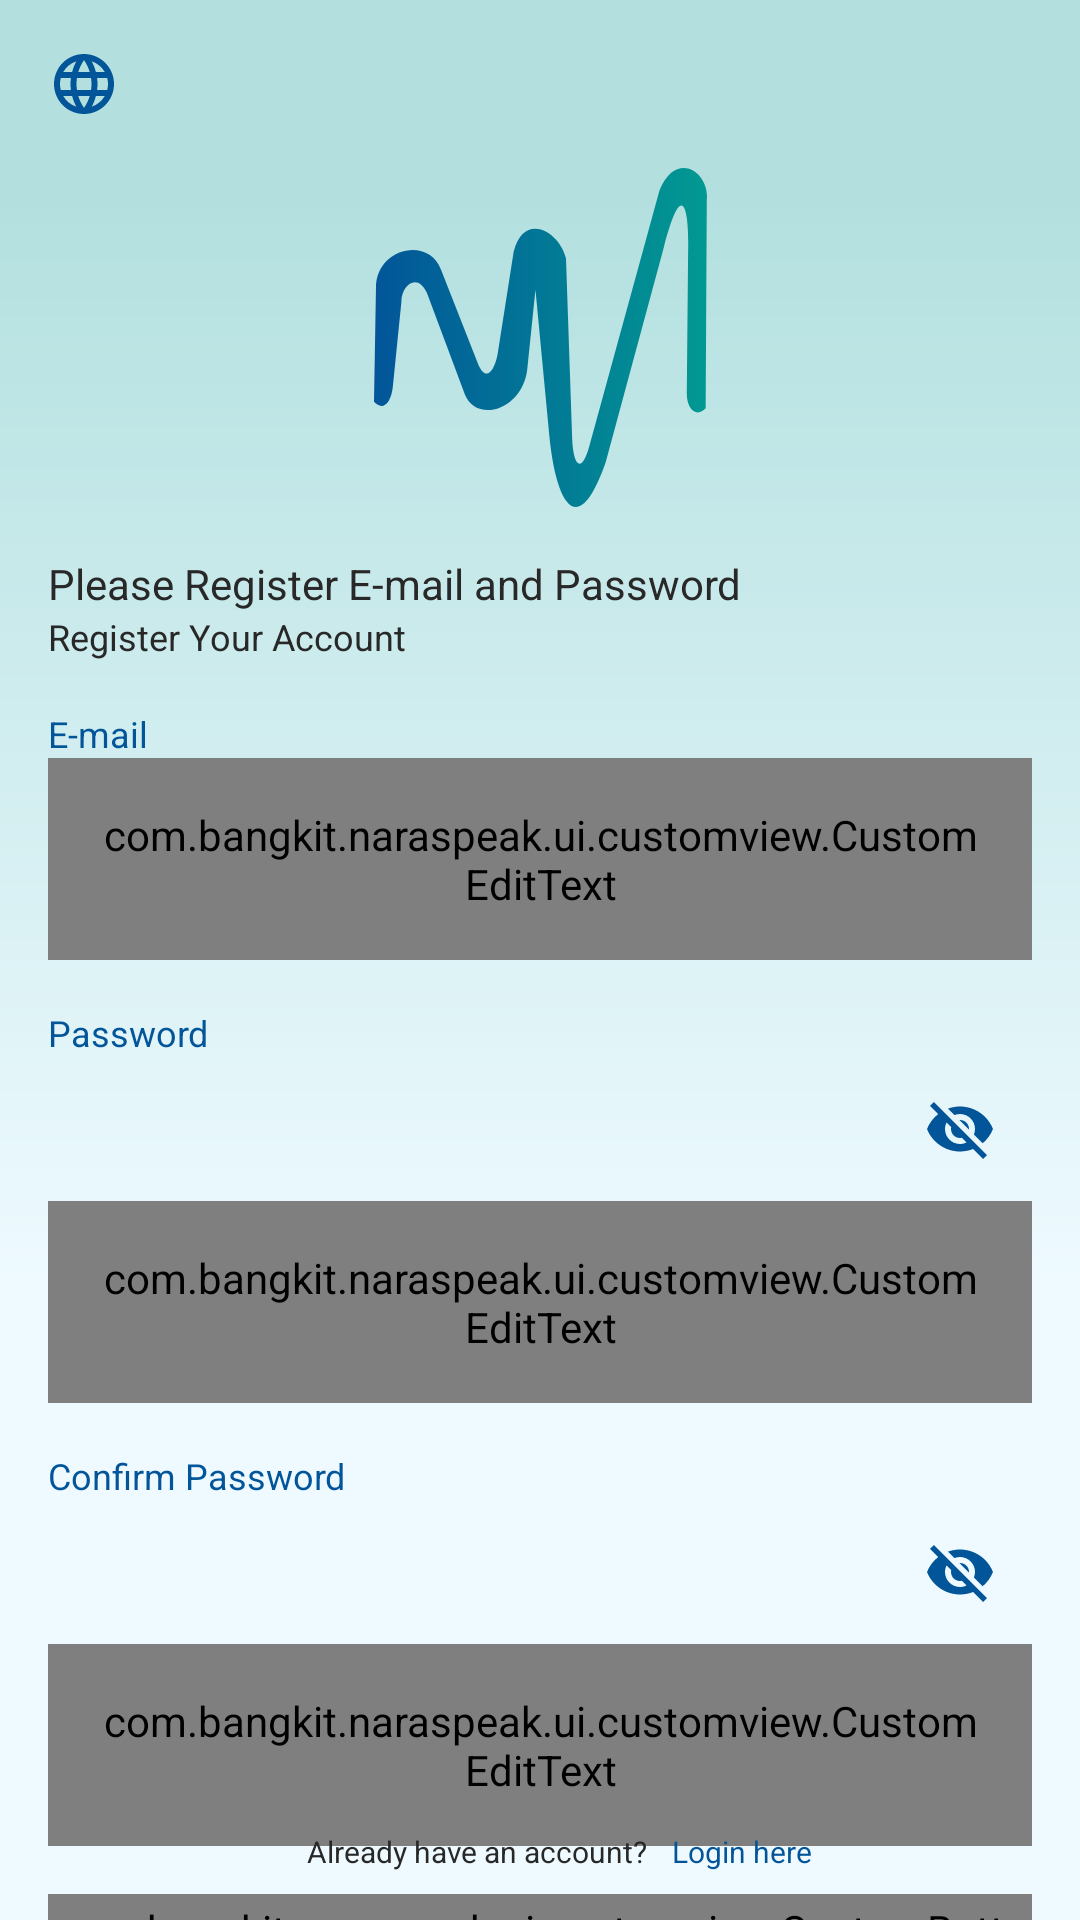

Icon bounding boxes for this 1080x1920 phone screenshot, format (x1, y1, x2, y2):
language: (54, 54, 114, 114)
